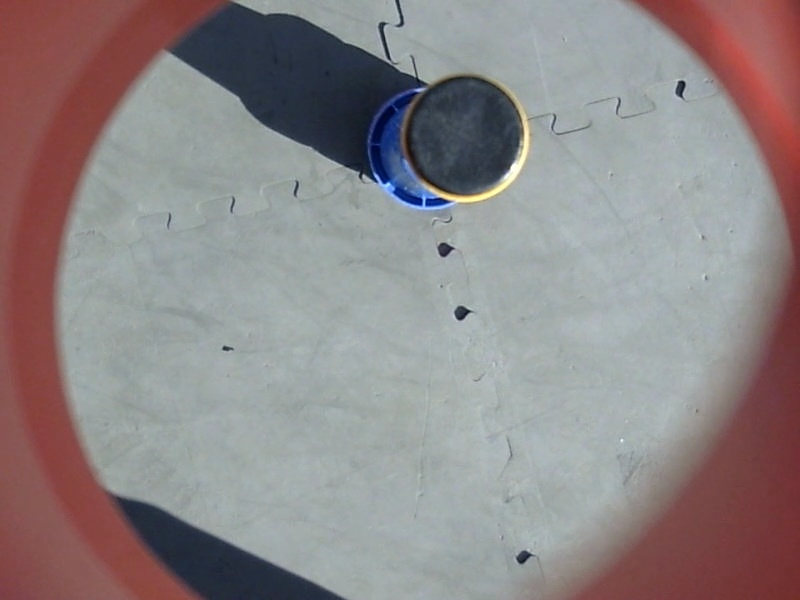tip: (397, 68, 534, 209)
